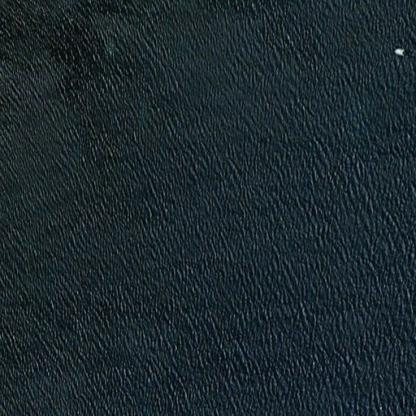ship: (393, 47, 404, 56)
